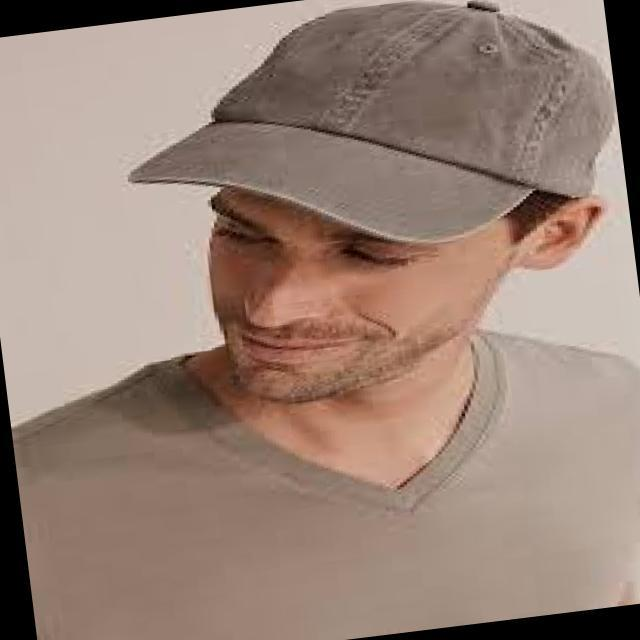cap: (63, 0, 634, 323)
